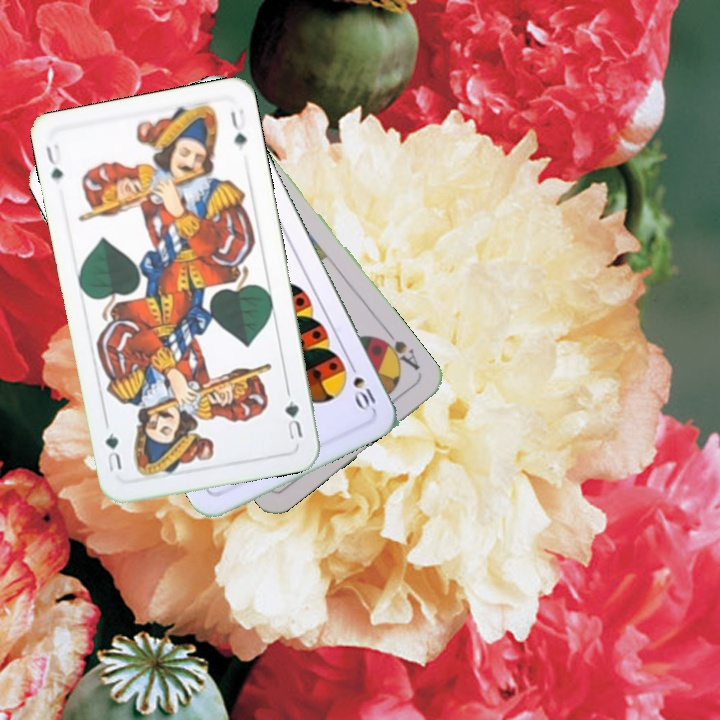GU: (280, 387, 306, 442), (42, 140, 66, 184)
S10: (344, 357, 380, 413)
SA: (374, 326, 423, 373)
